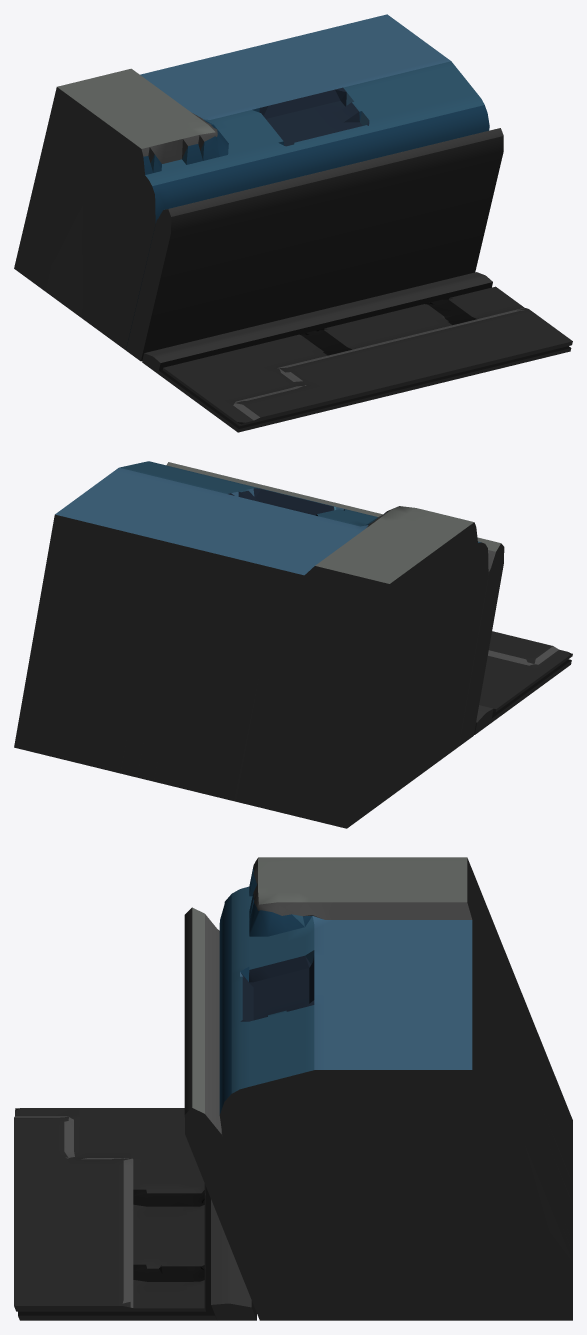
Rendered from fleet_walker_51.glb.
3 views of the same model, one above another, from view 1: azimuth 30°, elevation 25°; view 2: azimuth 150°, elevation 25°; view 3: azimuth 270°, elevation 25° (orthographic). The views are drawn at different scales.
Parts seen in each view (by area): view 1: fleet_walker_51; view 2: fleet_walker_51; view 3: fleet_walker_51.
Boxes of the visible parts, bbox=[...] form: fleet_walker_51: bbox=[14, 14, 572, 432]; fleet_walker_51: bbox=[14, 461, 572, 828]; fleet_walker_51: bbox=[14, 857, 572, 1320].
Size of the model in its own units: 24 by 14.7 by 28.3.
